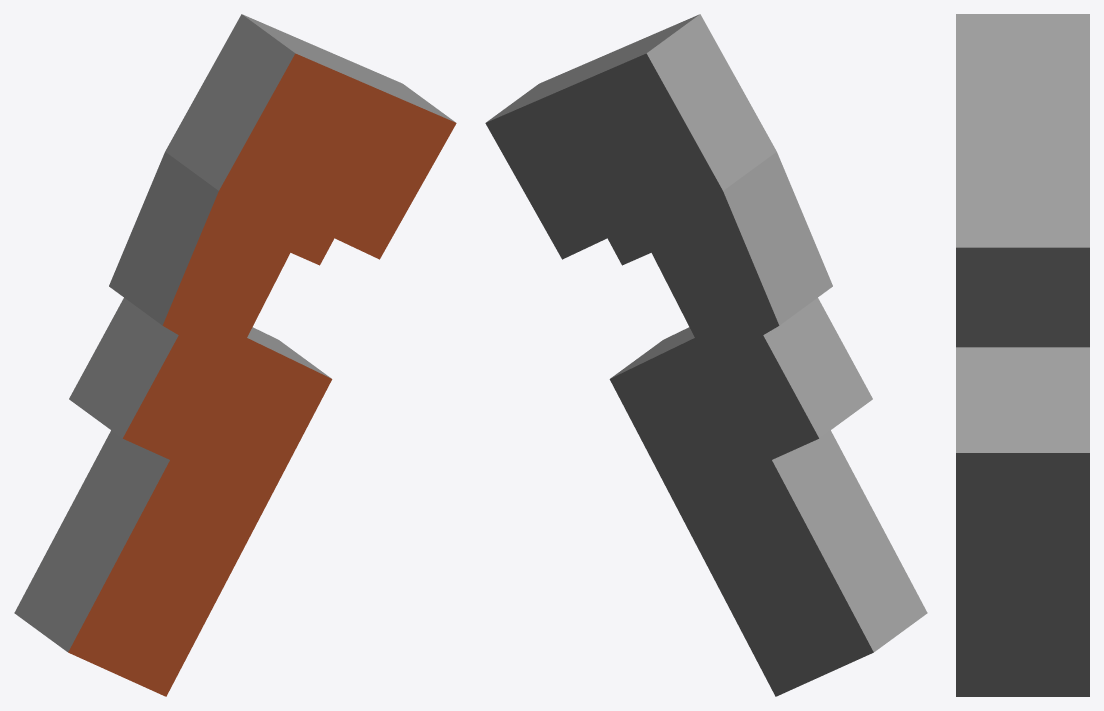
Rendered from construction_3667_assumed_A_Casa_h6m.obj.
3 views of the same model, side by side, from view 1: azimuth 30°, elevation 25°; view 2: azimuth 150°, elevation 25°; view 3: azimuth 270°, elevation 25° (orthographic). The views are drawn at different scales.
Visible parts, largest first — view 1: construction_3667_assumed_A_Casa; view 2: construction_3667_assumed_A_Casa; view 3: construction_3667_assumed_A_Casa.
Boxes of the visible parts, x1,y1,x2,y2 form: construction_3667_assumed_A_Casa: (14,14,456,696); construction_3667_assumed_A_Casa: (485,14,927,696); construction_3667_assumed_A_Casa: (956,14,1089,696).
Bounding box in the file's own units: 25.02 × 37.65 × 6.
